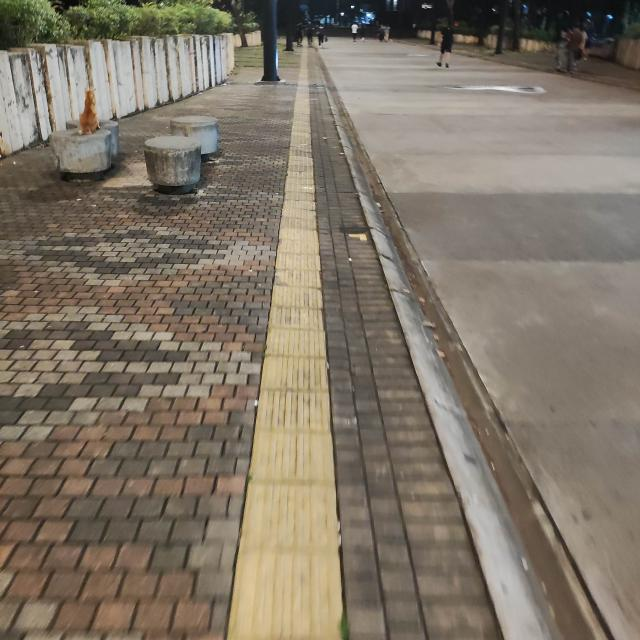lurus: (259, 90, 336, 640)
